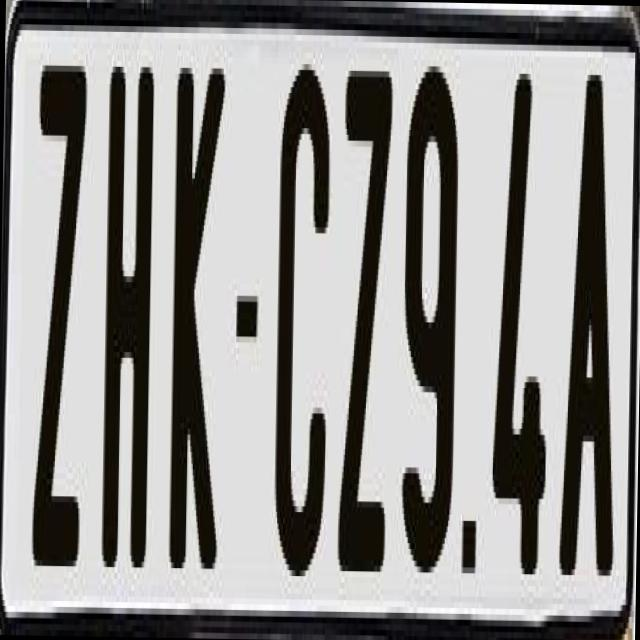4: (488, 61, 556, 562)
9: (398, 60, 458, 596)
A: (558, 57, 626, 581)
C: (272, 57, 332, 599)
H: (96, 66, 152, 596)
K: (168, 62, 225, 598)
Z: (29, 65, 89, 601), (332, 58, 392, 571)
